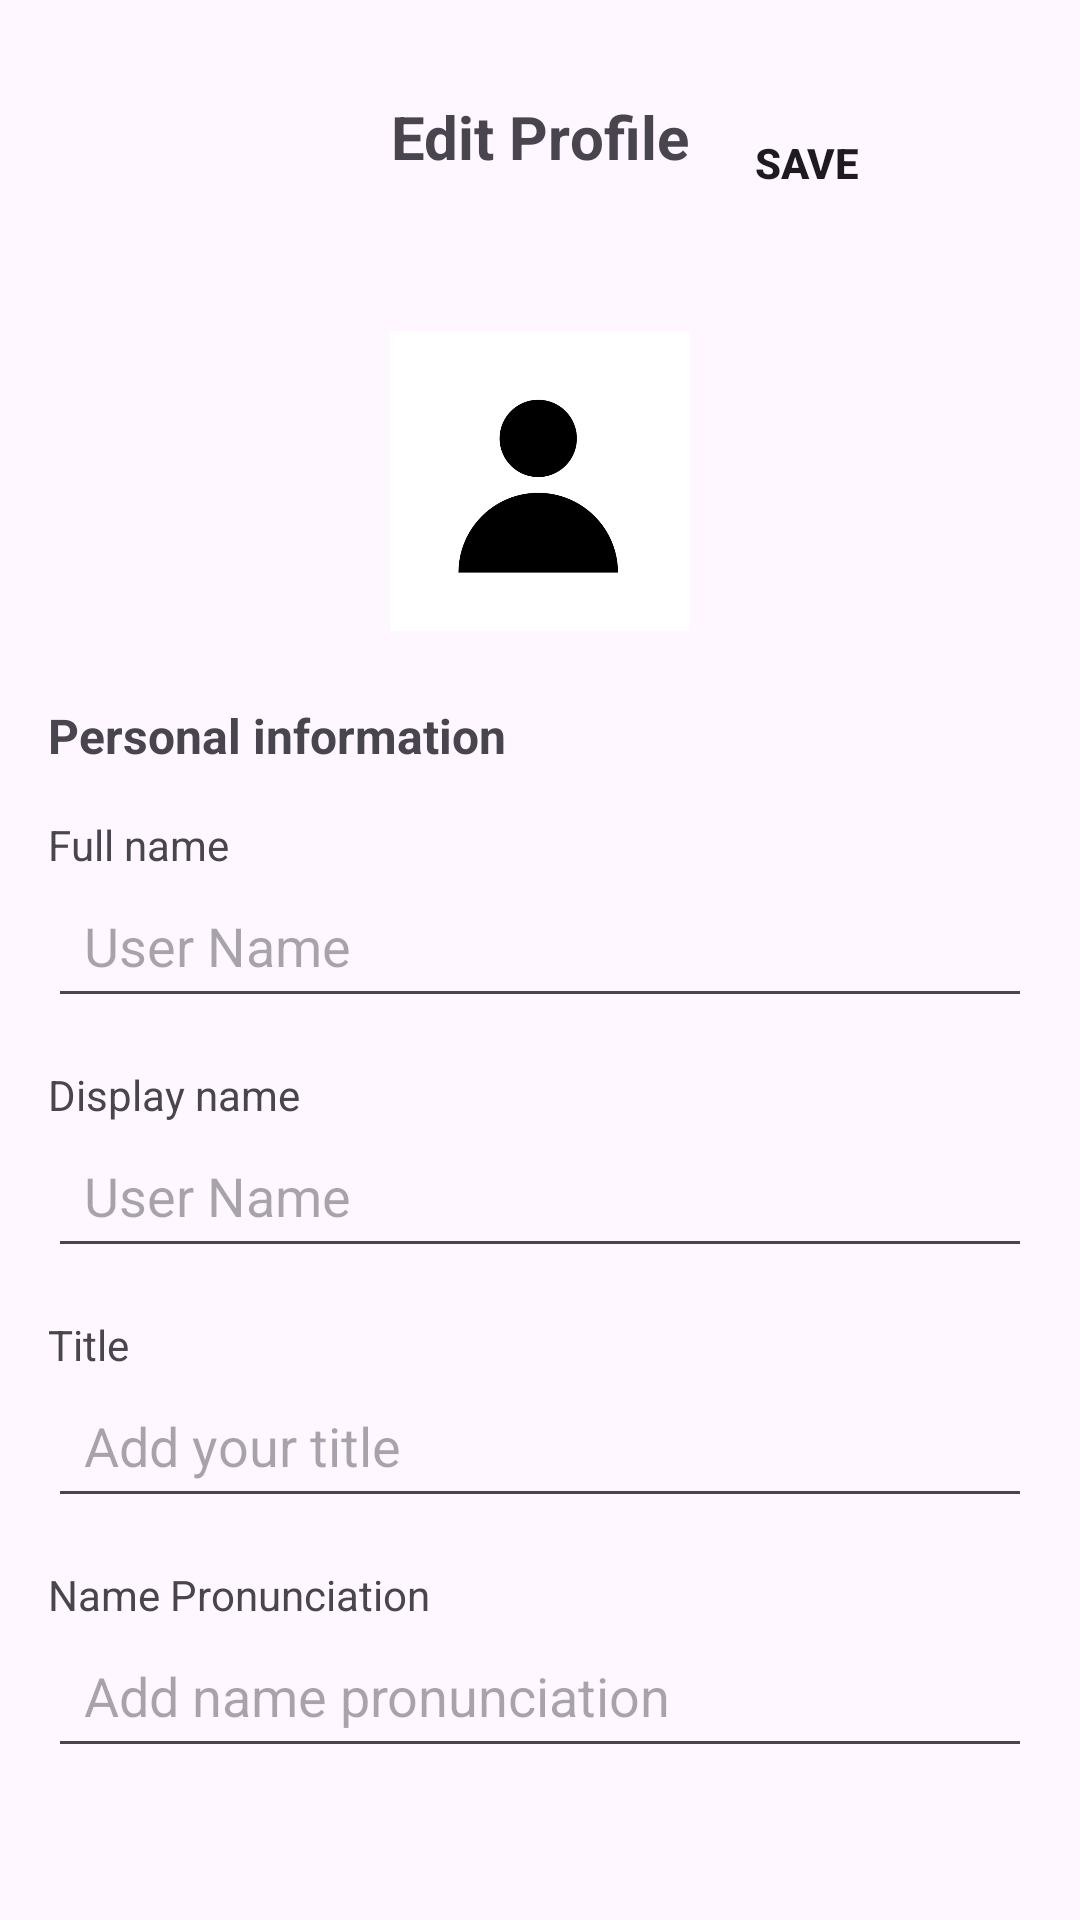

Point at icon controls on the screen. Image size 1080x1920, points as [x,y].
profile pic: [538,486]
